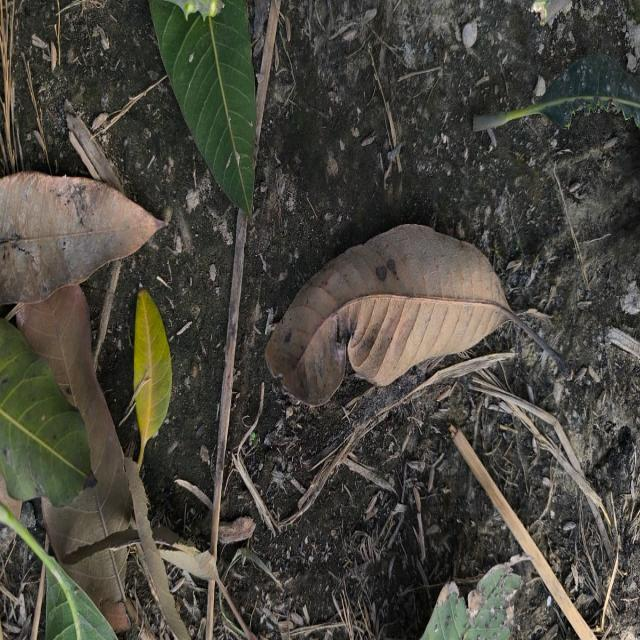Bacterial Cancer: (333, 314, 367, 362), (376, 264, 392, 285)
